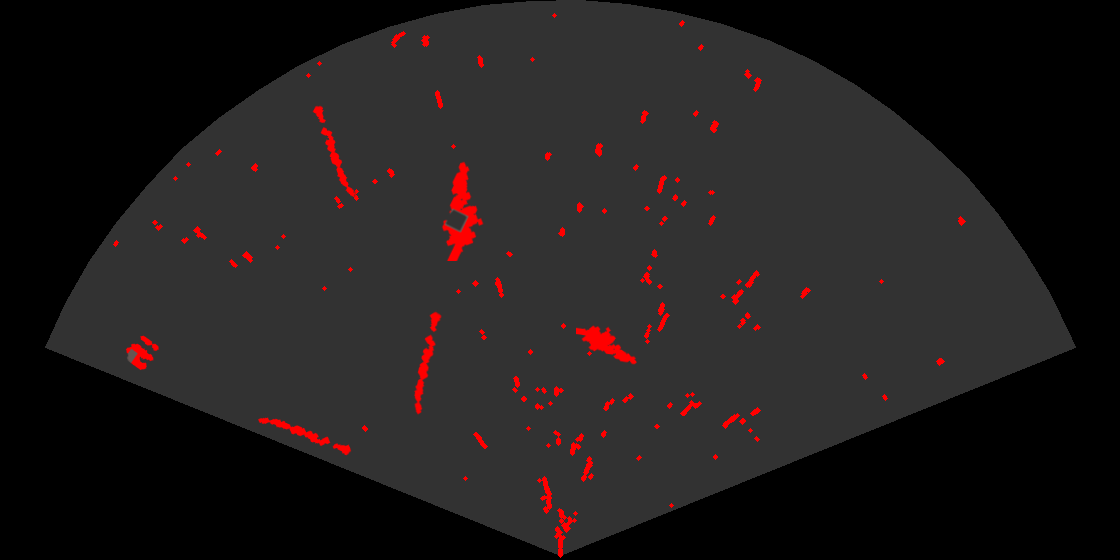ball: (124, 334, 160, 372)
chain: (311, 104, 356, 198), (257, 416, 353, 457), (413, 309, 443, 416)
frogman: (440, 160, 485, 261), (576, 324, 638, 366)
